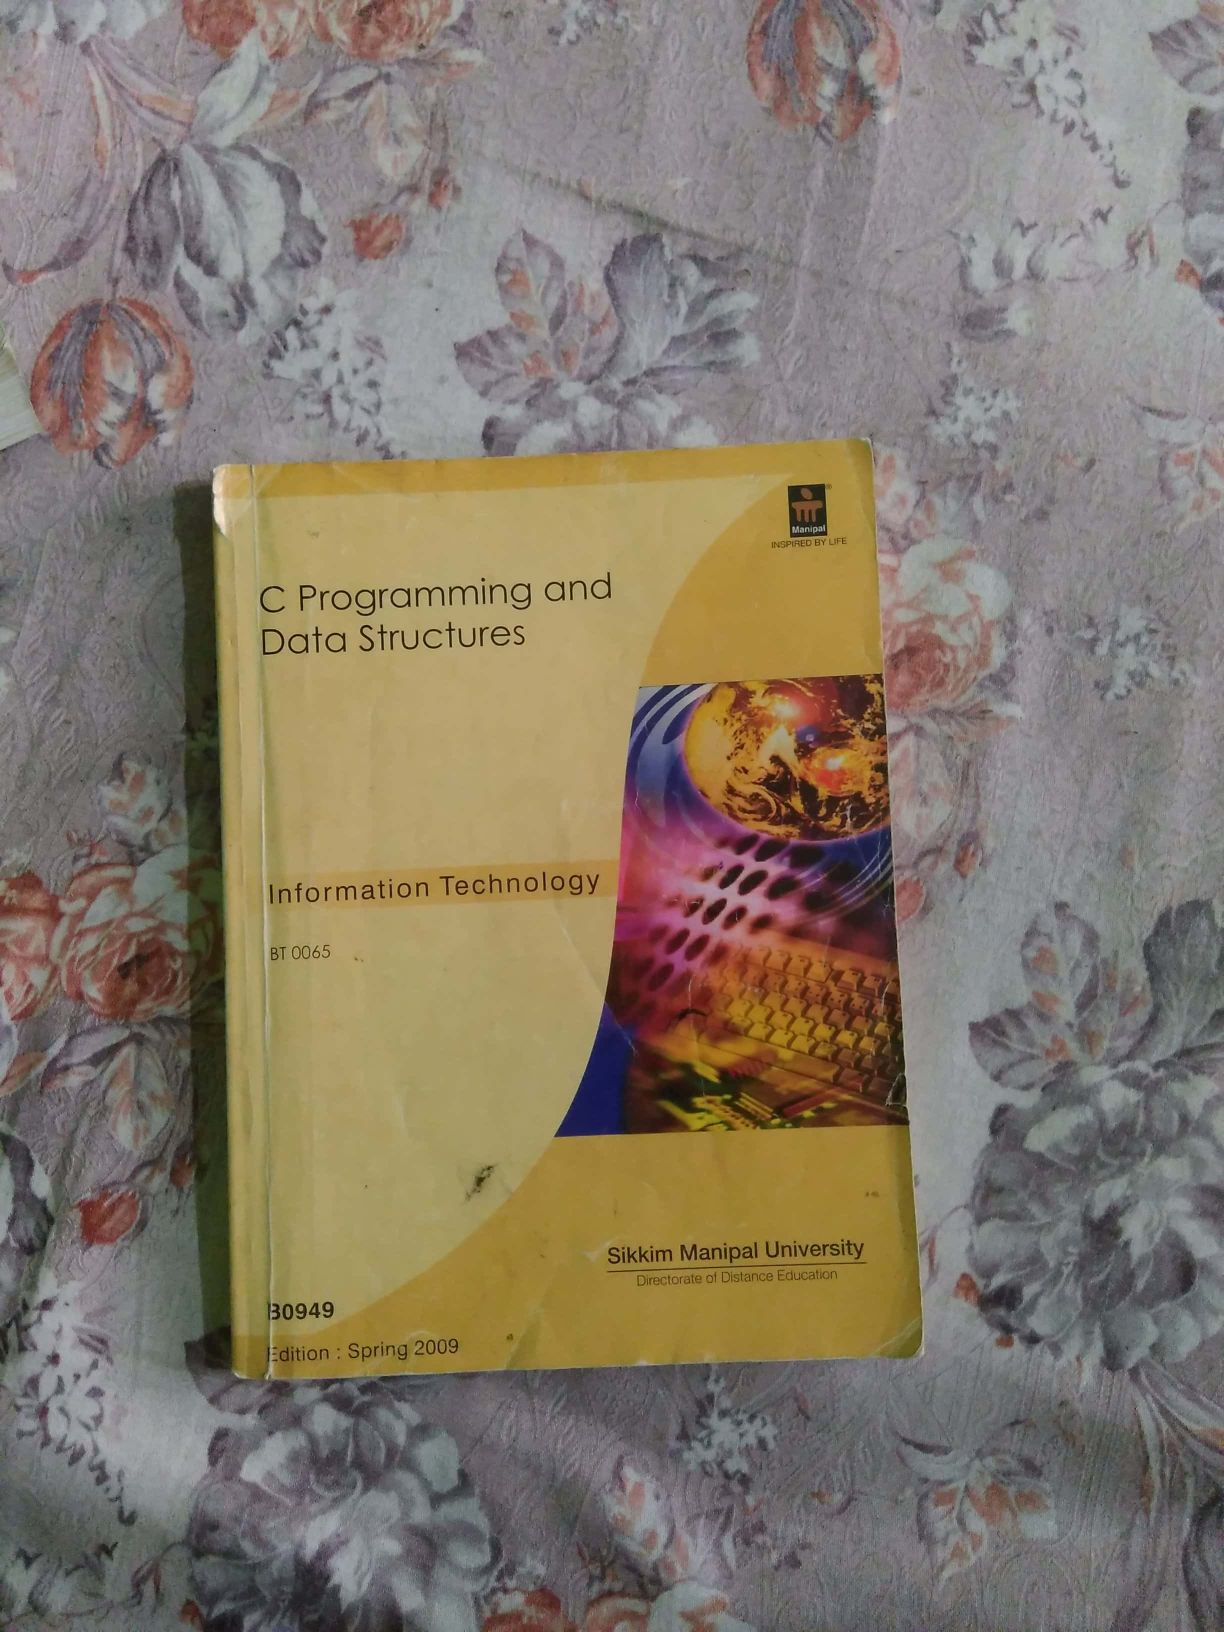clang: (134, 424, 993, 1397)
